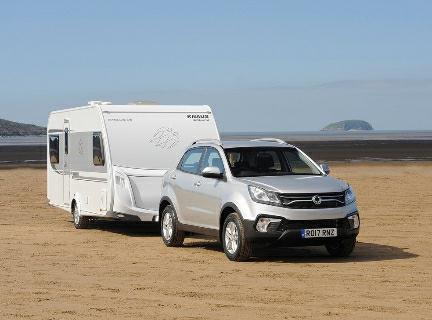双龙-柯兰多: (158, 139, 367, 263)
